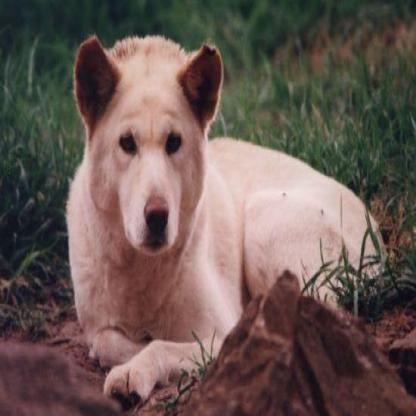dingo: (65, 29, 387, 402)
